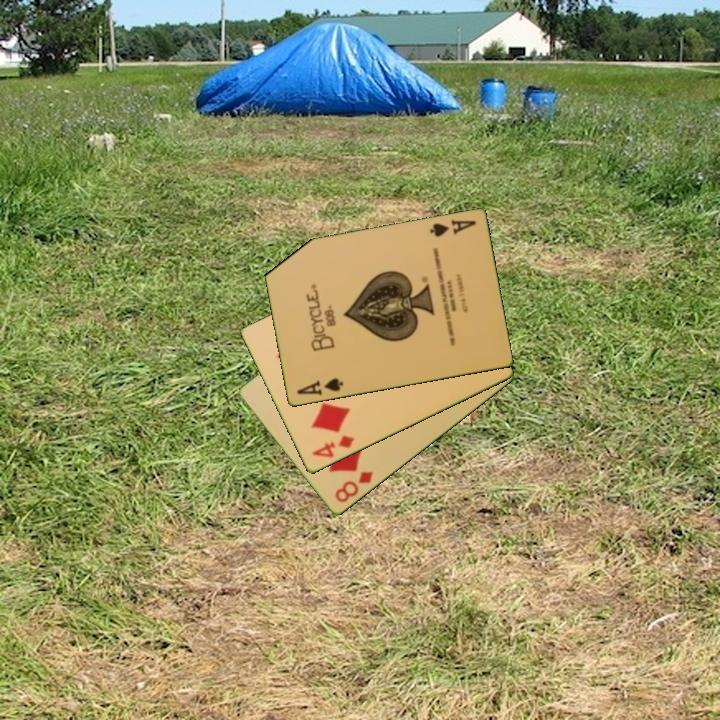4d: (308, 432, 357, 461)
8d: (331, 468, 376, 506)
As: (293, 375, 346, 399), (426, 216, 479, 240)
